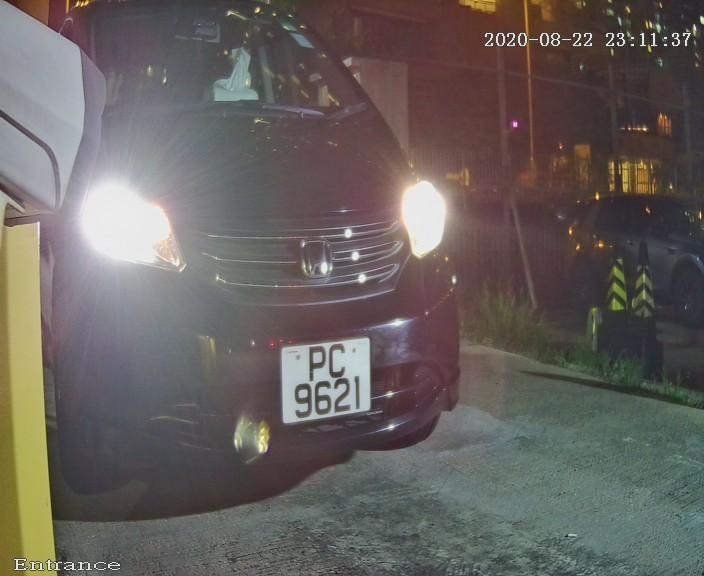Car: (4, 11, 503, 523)
License Plate: (274, 332, 381, 430)
